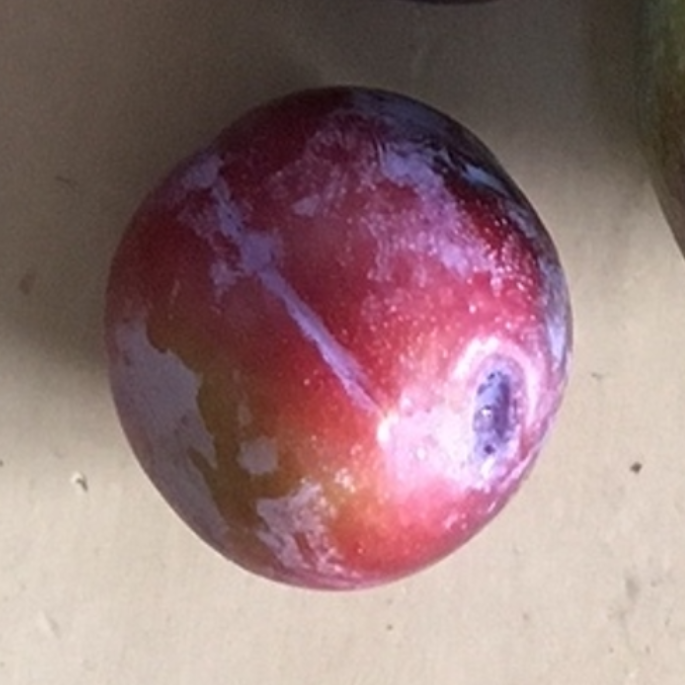plum_B: (107, 85, 574, 591)
